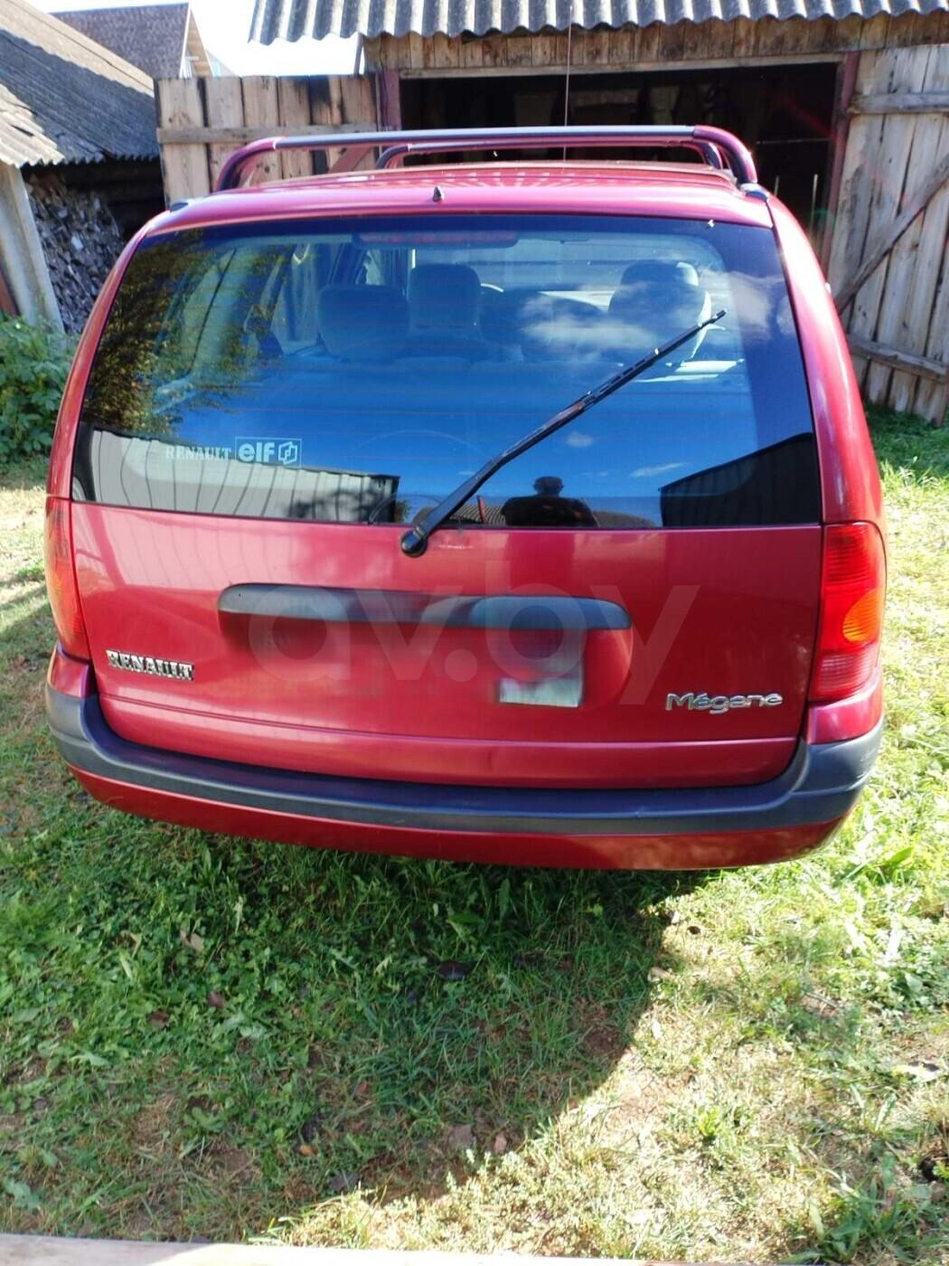Megane_1999-2003: (36, 148, 897, 877)
